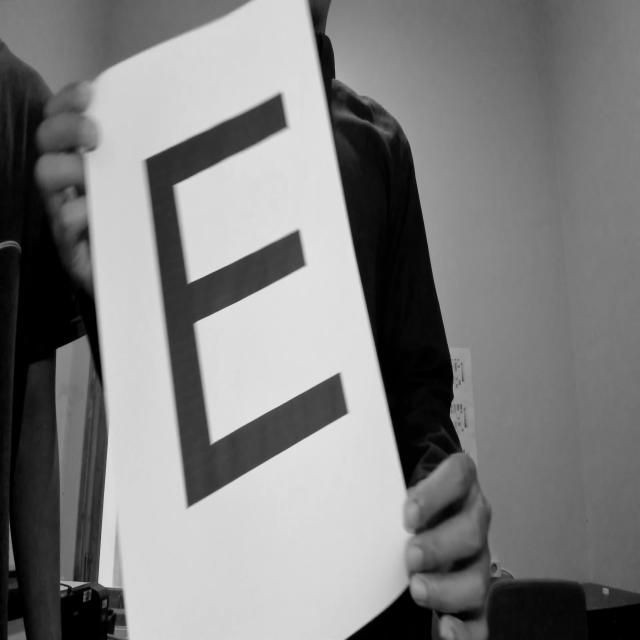e: (131, 70, 368, 529)
